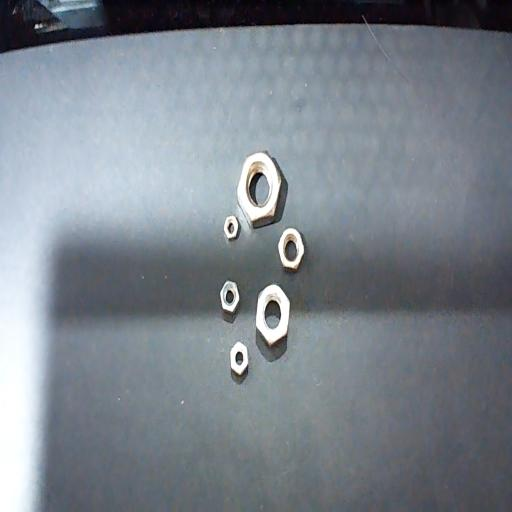nut: (237, 151, 281, 227), (256, 283, 290, 347), (279, 228, 304, 270), (230, 341, 248, 376), (220, 280, 239, 312), (224, 215, 238, 239)
